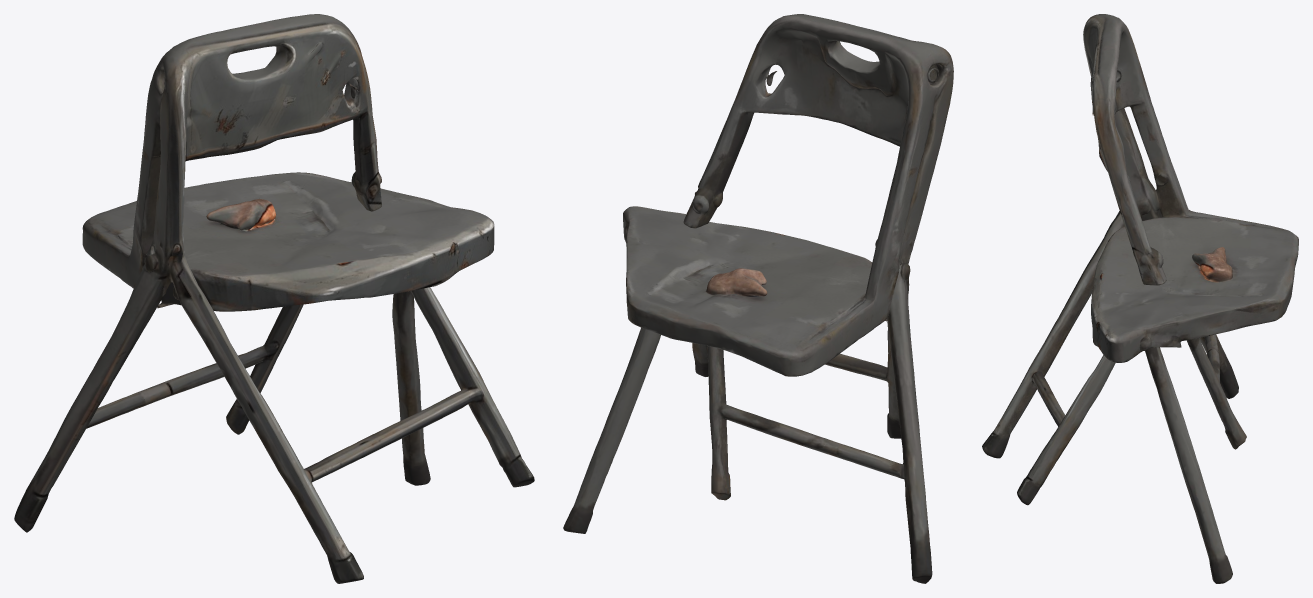
The model's file is chair.glb.
3 views of the same model, side by side, from view 1: azimuth 30°, elevation 25°; view 2: azimuth 150°, elevation 25°; view 3: azimuth 270°, elevation 25° (orthographic). The views are drawn at different scales.
Parts seen in each view (by area): view 1: piece; view 2: piece; view 3: piece.
Part boxes in pixels (bbox=[...]): piece: bbox=[14, 14, 534, 583]; piece: bbox=[563, 14, 953, 583]; piece: bbox=[982, 14, 1298, 583].
Size of the model in its own units: 0.6518 by 0.86 by 0.55.
Materials: 1 (1 with a texture image).
